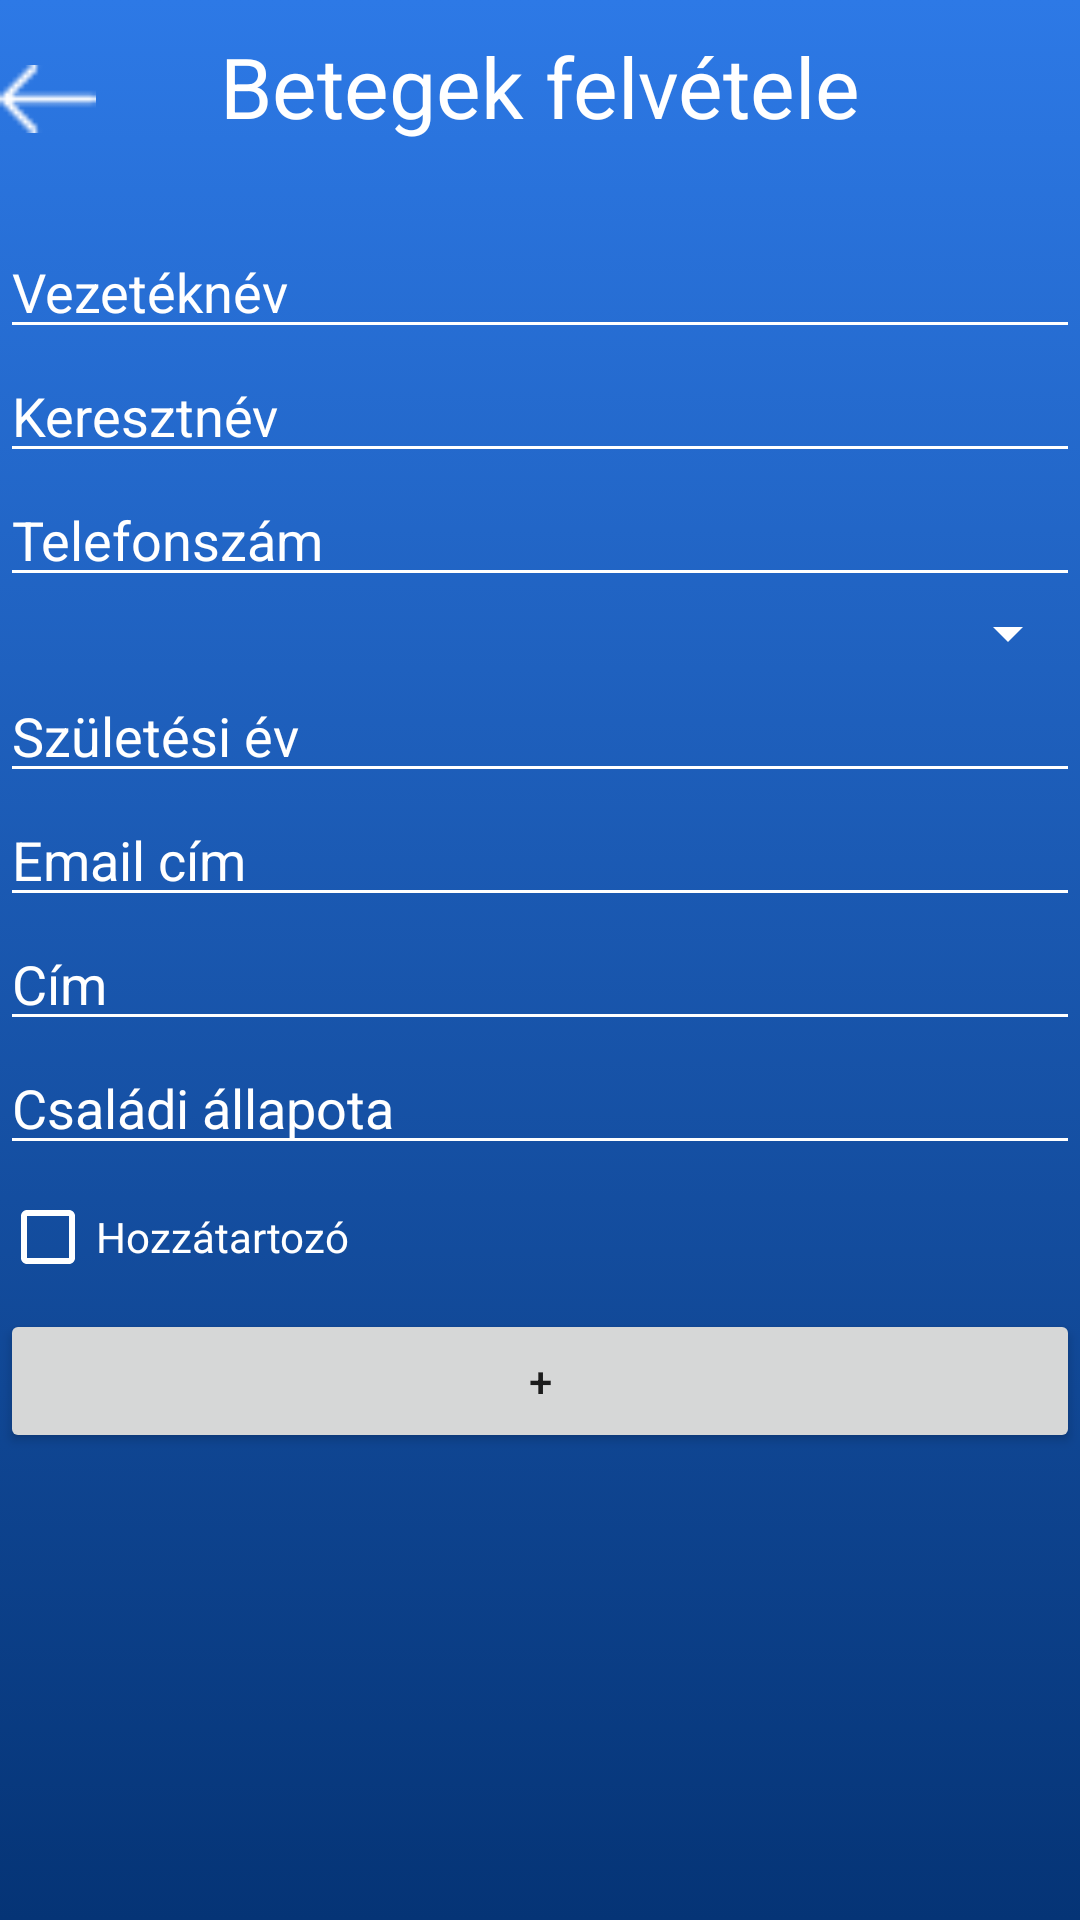

Named icons in this screenshot (1080px×1920px) and their centers, point (x, y):
back: point (48, 99)
